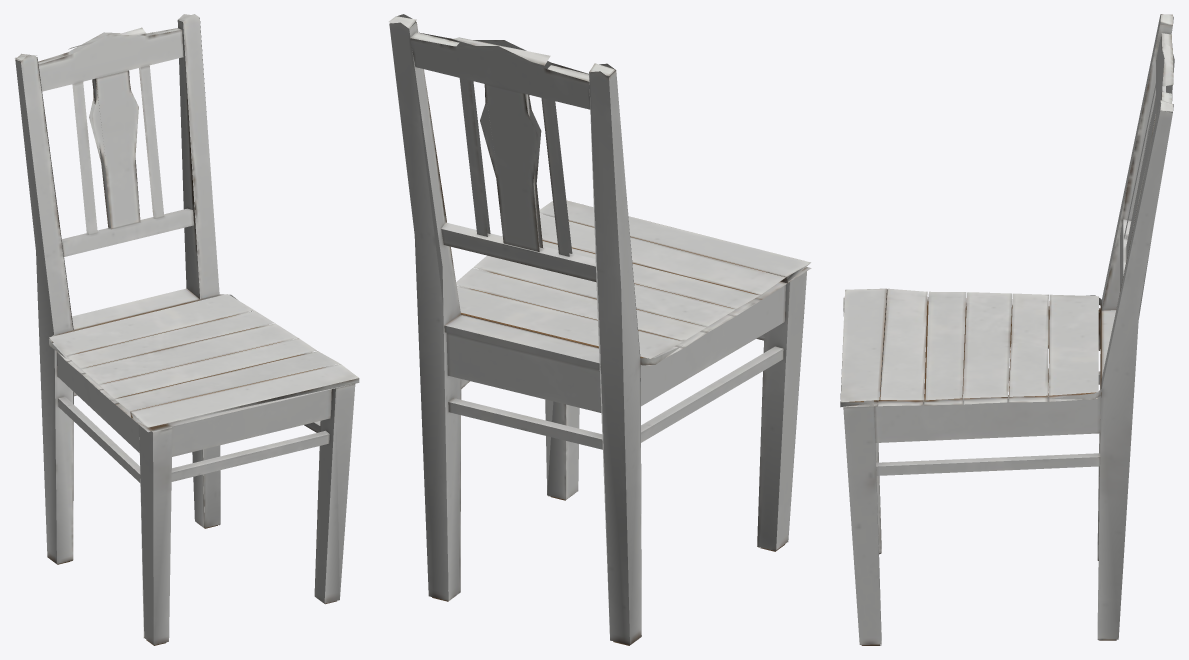
Rendered from Chair_Wood.fbx.
3 views of the same model, side by side, from view 1: azimuth 30°, elevation 25°; view 2: azimuth 150°, elevation 25°; view 3: azimuth 270°, elevation 25° (orthographic). The views are drawn at different scales.
Visible parts, largest first — view 1: стул; view 2: стул; view 3: стул.
Boxes of the visible parts, <box> form: стул: <box>15,14,359,645</box>; стул: <box>388,14,811,645</box>; стул: <box>840,14,1174,645</box>.
Size of the model in its own units: 0.4286 by 0.9568 by 0.538.
Materials: 1 (1 with a texture image).
